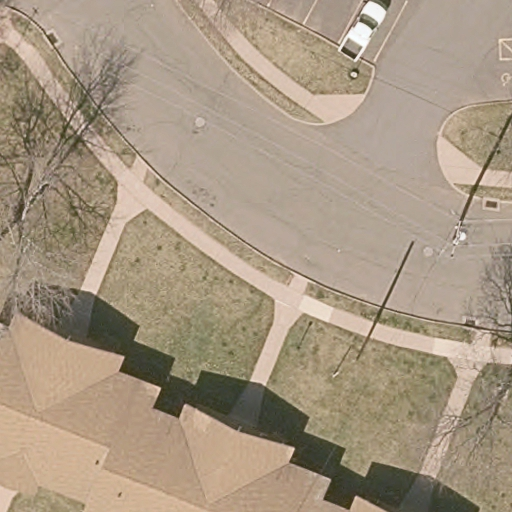DT: (448, 195, 476, 258)
